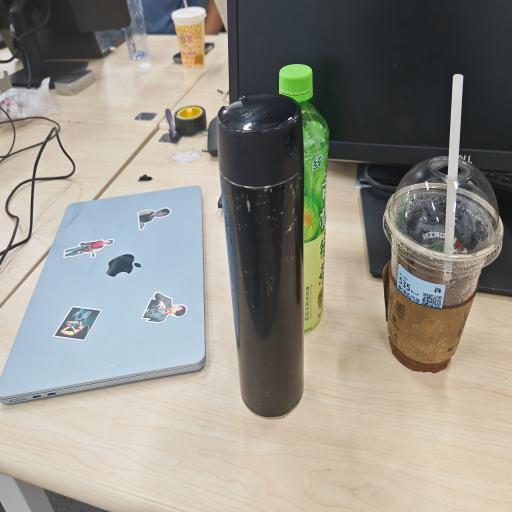laptop: (0, 186, 205, 404)
mouse: (207, 114, 221, 159)
